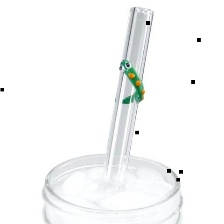drinking_straw: (100, 2, 158, 193)
glass: (33, 146, 190, 224)
